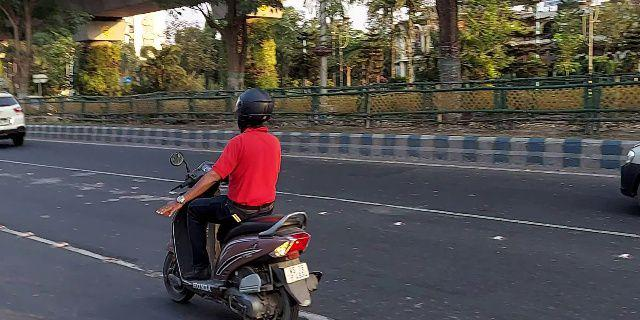Car: (1, 92, 30, 150)
Motorbike: (166, 82, 323, 320)
